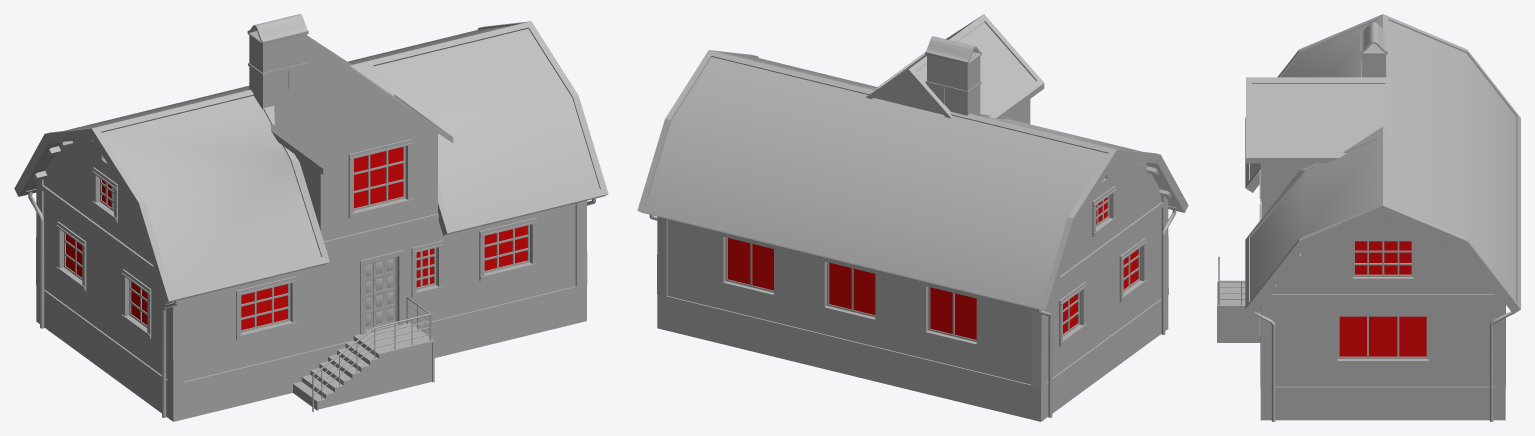
The model's file is House_4_Low.fbx.
3 renders of one model, left to right at view 1: azimuth 30°, elevation 25°; view 2: azimuth 150°, elevation 25°; view 3: azimuth 270°, elevation 25°, orthographic. The views are drawn at different scales.
Parts seen in each view (by area): view 1: House_4_Low; view 2: House_4_Low; view 3: House_4_Low.
Boxes of the visible parts, x1=… form: House_4_Low: x1=14, y1=14, x2=608, y2=421; House_4_Low: x1=637, y1=14, x2=1188, y2=421; House_4_Low: x1=1217, y1=14, x2=1520, y2=421.
Bounding box in the file's own units: 3752 × 2572 × 2511.
